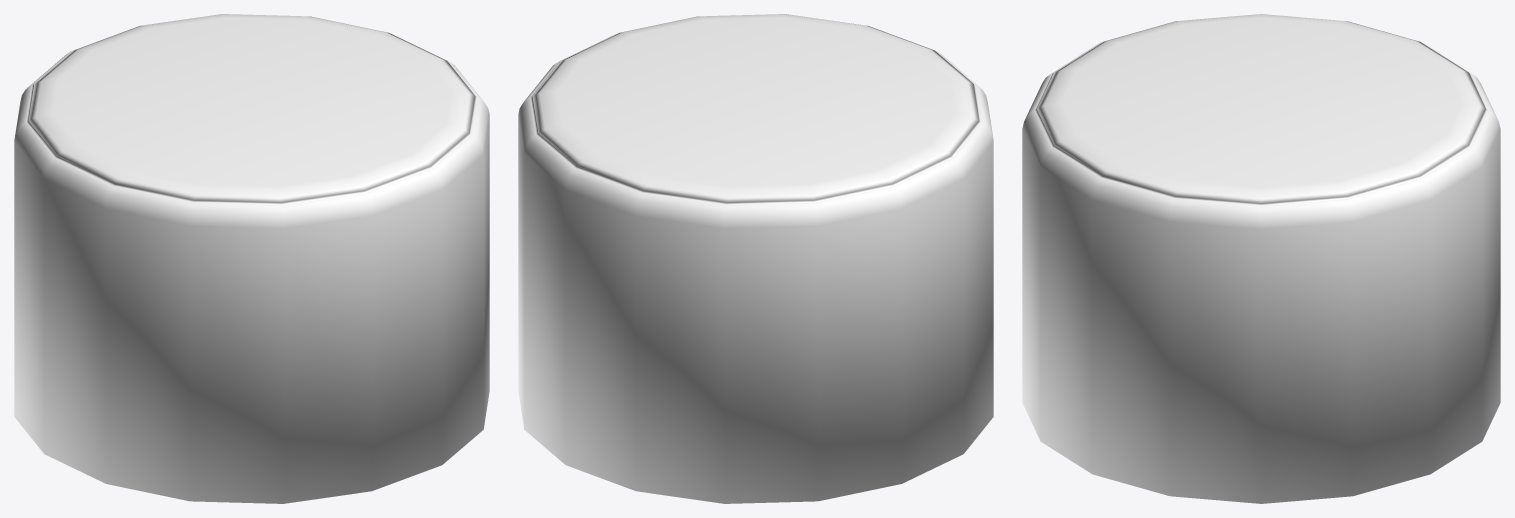
Rendered from Pouffee1.fbx.
3 views of the same model, side by side, from view 1: azimuth 30°, elevation 25°; view 2: azimuth 150°, elevation 25°; view 3: azimuth 270°, elevation 25° (orthographic).
Parts seen in each view (by area): view 1: Pouffee1; view 2: Pouffee1; view 3: Pouffee1.
Part boxes in pixels (x1,y1,x2,y2): Pouffee1: (14, 14, 489, 503); Pouffee1: (518, 14, 993, 503); Pouffee1: (1022, 14, 1500, 503).
Size of the model in its own units: 0.9649 by 0.6685 by 0.9649.
